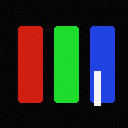4 line_v: (94, 71, 100, 105)
